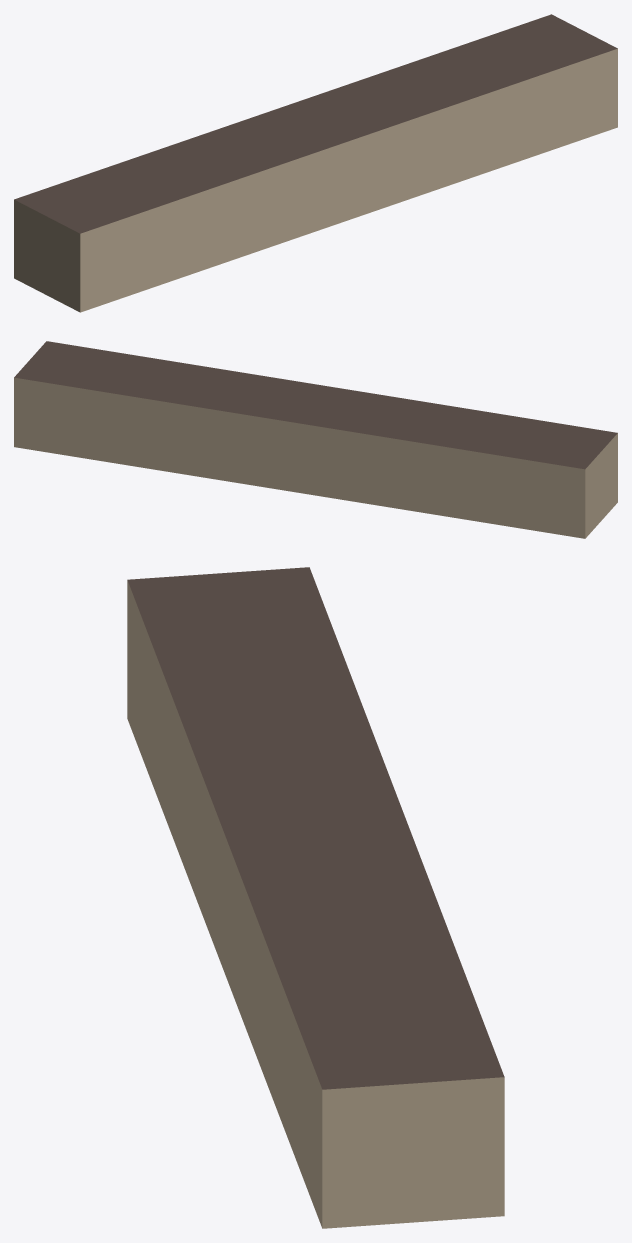
The picture shows the model from 3 angles, top to bottom: view 1: azimuth 30°, elevation 25°; view 2: azimuth 150°, elevation 25°; view 3: azimuth 270°, elevation 25°; orthographic projection. The views are drawn at different scales.
Visible parts, largest first — view 1: HP-w859078906; view 2: HP-w859078906; view 3: HP-w859078906.
Boxes of the visible parts, left/top/right/bottom form: HP-w859078906: left=14, top=14, right=617, bottom=312; HP-w859078906: left=14, top=341, right=617, bottom=538; HP-w859078906: left=127, top=567, right=504, bottom=1228.
Size of the model in its own units: 72.54 by 9 by 22.13.
